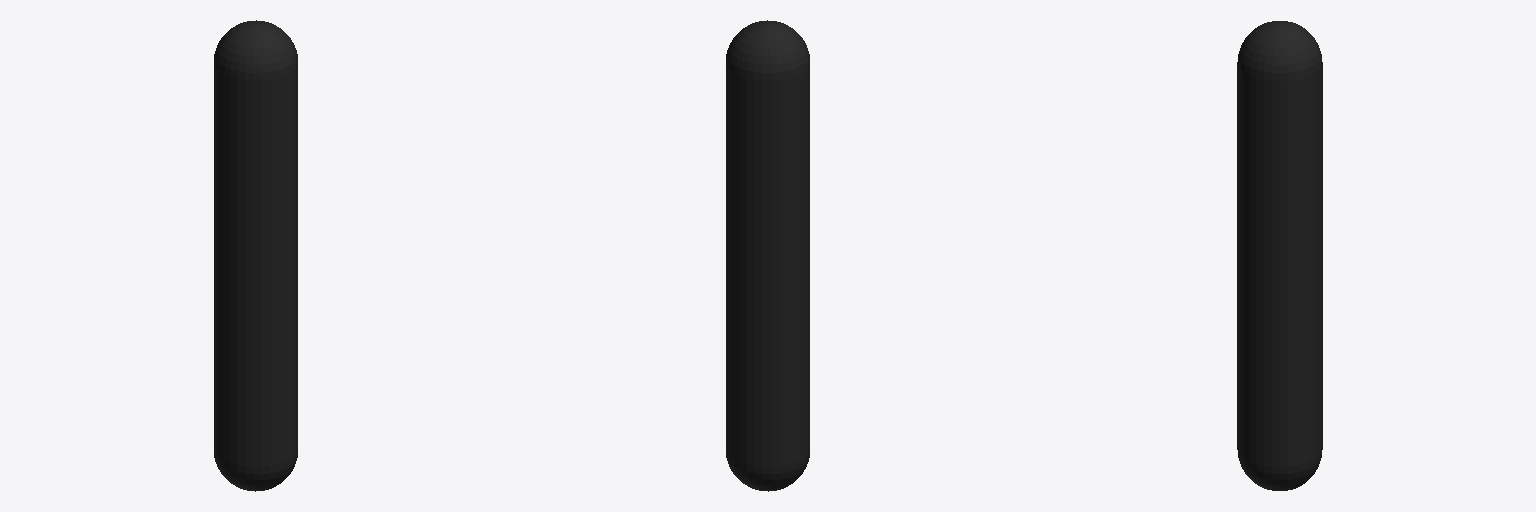
URDF robot description (falling_rod):
<?xml version="1.0"?>
<robot name = "falling_rod">
    <material name="grey">
    	<color rgba="0.2 0.2 0.2 1.0"/>
  	</material>
    <link name = "xtrans"/>
    <link name = "ztrans"/>
    <link name = "yrot" />
    <link name = "rod">
        <visual>
            <origin xyz = "0 0 0"/>
            <geometry>
                <cylinder length="0.5" radius="0.05"/>
            </geometry>
          	<material name="grey"/>
        </visual>
        <inertial>
            <origin xyz="0 0 0"/>
            <mass value="1"/>
            <inertia ixx="0.167" iyy="0.002" izz="0.167" ixy="0" ixz="0" iyz="0"/>
        </inertial>
    </link>
    <link name = "bottom_cap">
        <visual>
            <origin xyz = "0 0 -0.25"/>
            <geometry>
                <sphere radius="0.05"/>
            </geometry>
            <material name="grey"/>
        </visual>
        <collision>
            <origin xyz="0.0 0.0 -0.25"/>
            <geometry>
                <sphere radius="0.05"/>
            </geometry>
        </collision>
    </link>
    <link name = "top_cap">
        <visual>
            <origin xyz="0 0 0.25"/>
            <geometry>
                <sphere radius="0.05"/>
            </geometry>
            <material name="grey"/>
        </visual>
        <collision>
            <origin xyz="0 0 0.25"/>
            <geometry>
                <sphere radius="0.05"/>
            </geometry>
        </collision>
    </link>
    <!--Add joints between the dummy frames to model the brick-->
    <joint name="xslide" type="prismatic">
        <parent link="xtrans"/>
        <child link="ztrans"/>
        <origin rpy="0 0 0" xyz="0 0 0"/>
        <axis xyz="1 0 0"/>
    </joint>
    <joint name="zslide" type="prismatic">
        <parent link="ztrans"/>
        <child link="yrot"/>
        <origin rpy="0 0 0" xyz="0 0 0"/>
        <axis xyz="0 0 1"/>
    </joint>
    <joint name="yrotate" type="revolute">
        <parent link="yrot" />
        <child link="rod" />
        <origin rpy="0 0 0" xyz="0 0 0"/>
        <axis xyz="0 1 0"/>
    </joint>
    <joint name="top_joint" type="fixed">
        <parent link="rod"/>
        <child link="top_cap"/>
    </joint>
    <joint name="bottom_joint" type="fixed">
        <parent link="rod"/>
        <child link="bottom_cap"/>
    </joint>
</robot>

--- What the picture shows (computed from the rendered views, not written in the file) ---
Views: 3 orthographic renders of the robot side by side, from view 1: azimuth 30°, elevation 25°; view 2: azimuth 150°, elevation 25°; view 3: azimuth 270°, elevation 25°.
Model falling_rod with 6 links and 5 joints (1 revolute, 2 prismatic, 2 fixed), rooted at xtrans, posed all joints at 0.
Links seen in each view (by area): view 1: rod, top_cap, bottom_cap; view 2: rod, top_cap, bottom_cap; view 3: rod, top_cap, bottom_cap.
Link boxes in pixels (x1,y1,x2,y2): rod: [214, 67, 297, 466]; top_cap: [214, 20, 297, 80]; bottom_cap: [214, 453, 297, 491]; rod: [726, 67, 809, 466]; top_cap: [726, 20, 809, 80]; bottom_cap: [726, 453, 809, 491]; rod: [1237, 63, 1322, 466]; top_cap: [1237, 21, 1322, 80]; bottom_cap: [1237, 449, 1322, 490].
Size in the robot's own frame: 0.1 by 0.1 by 0.6 metres.
Geometry: primitives only (box / cylinder / sphere), no mesh files.